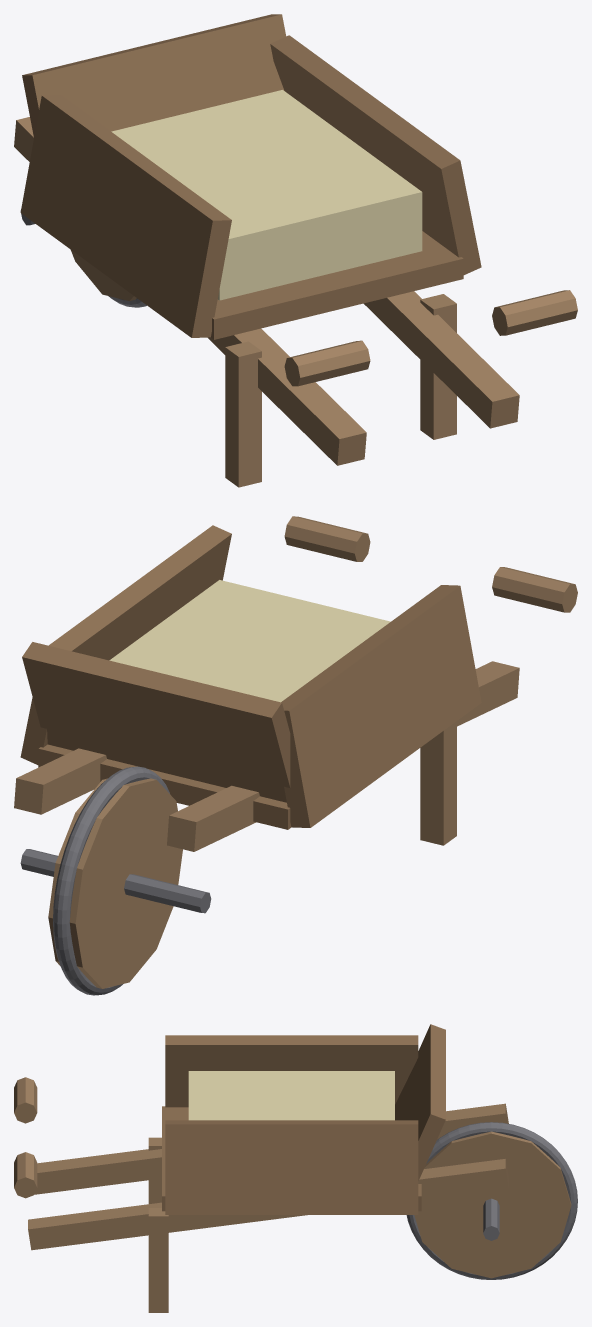
The model's file is wheelbarrow.glb.
The picture shows the model from 3 angles, top to bottom: view 1: azimuth 30°, elevation 25°; view 2: azimuth 150°, elevation 25°; view 3: azimuth 270°, elevation 25°; orthographic projection. The views are drawn at different scales.
Parts seen in each view (by area): view 1: Cube.008, Cube.004, Cube.003, Cube.005, Cube.002, Cube.001, Cube, Cube.006, Cube.007, Cylinder, Cylinder.001, Cylinder.002; view 2: Cube.004, Cube.003, Cube.008, Cylinder.002, Cube.005, Cube, Torus, Cube.006, Cube.001, Cube.002, Cylinder.003, Cylinder.001 (+1 smaller); view 3: Cube.005, Cylinder.002, Cube.008, Cube.004, Cube.001, Cube, Cube.003, Torus, Cube.007, Cylinder.001, Cylinder, Cube.002 (+2 smaller).
Boxes of the visible parts, x1,y1,x2,y2 form: Cube.008: (111, 90, 422, 300); Cube.004: (20, 95, 231, 337); Cube.003: (22, 14, 286, 137); Cube.005: (270, 35, 481, 274); Cube.002: (211, 231, 463, 339); Cube.001: (363, 291, 519, 428); Cube: (14, 117, 366, 465); Cube.006: (225, 341, 261, 487); Cube.007: (420, 294, 456, 439); Cylinder: (284, 340, 370, 386); Cylinder.001: (492, 290, 577, 335); Cylinder.002: (71, 250, 136, 300); Cube.004: (281, 585, 481, 827); Cube.003: (22, 642, 290, 802); Cube.008: (109, 580, 390, 702); Cylinder.002: (48, 778, 182, 988); Cube.005: (20, 525, 231, 764); Cube: (167, 661, 519, 851); Torus: (53, 766, 169, 995); Cube.006: (420, 721, 456, 845); Cube.001: (14, 748, 106, 814); Cube.002: (38, 744, 291, 829); Cylinder.003: (20, 849, 211, 913); Cylinder.001: (284, 516, 370, 561); Cube.005: (165, 1120, 418, 1214); Cylinder.002: (414, 1131, 571, 1278); Cube.008: (188, 1071, 394, 1120); Cube.004: (165, 1035, 418, 1107); Cube.001: (28, 1159, 508, 1250); Cube: (34, 1103, 508, 1194); Cube.003: (395, 1024, 445, 1180); Torus: (406, 1122, 577, 1279); Cube.007: (148, 1208, 168, 1312); Cylinder.001: (14, 1152, 37, 1198); Cylinder: (14, 1077, 37, 1123); Cube.002: (162, 1106, 421, 1211).
Size of the model in its own units: 0.7434 by 0.6977 by 1.7.
